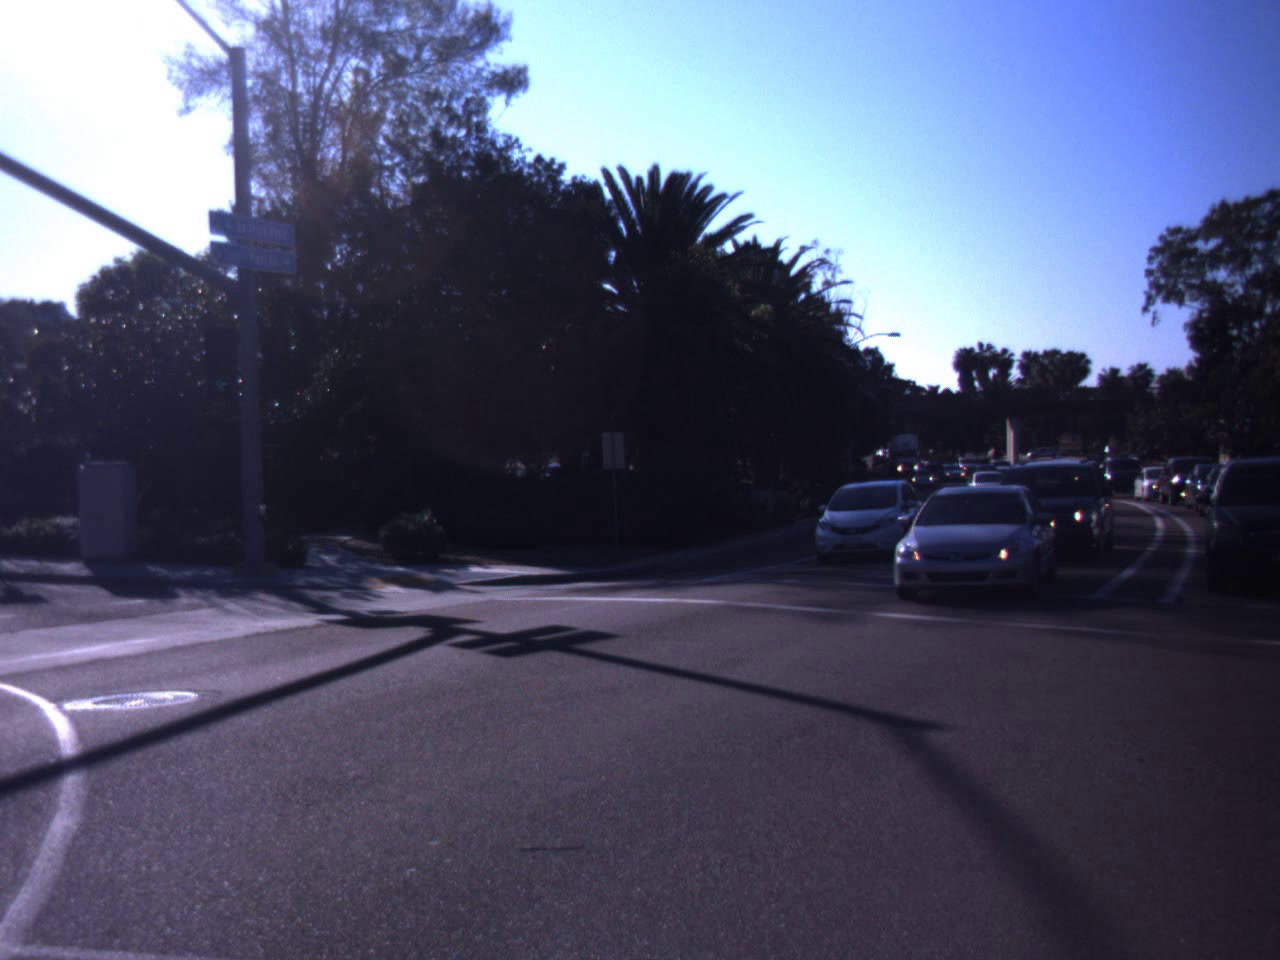go: (203, 331, 239, 396)
